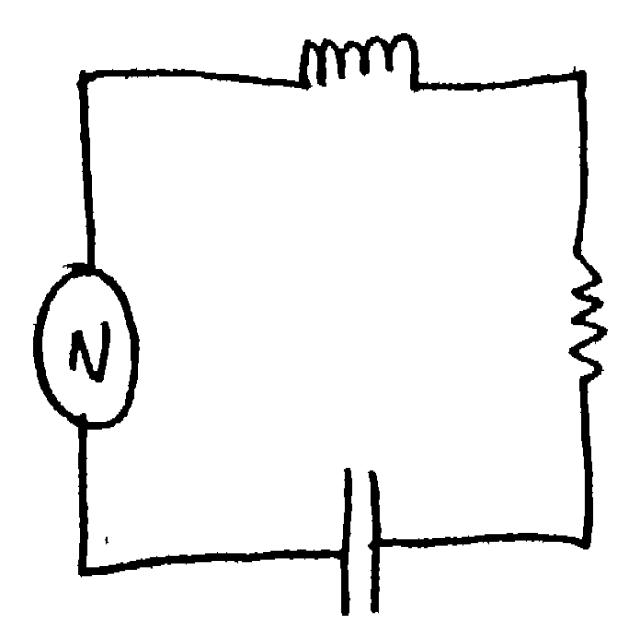ac: (19, 247, 146, 438)
capacitor: (329, 456, 390, 626)
inductor: (288, 21, 430, 108)
resistor: (548, 231, 615, 396)
